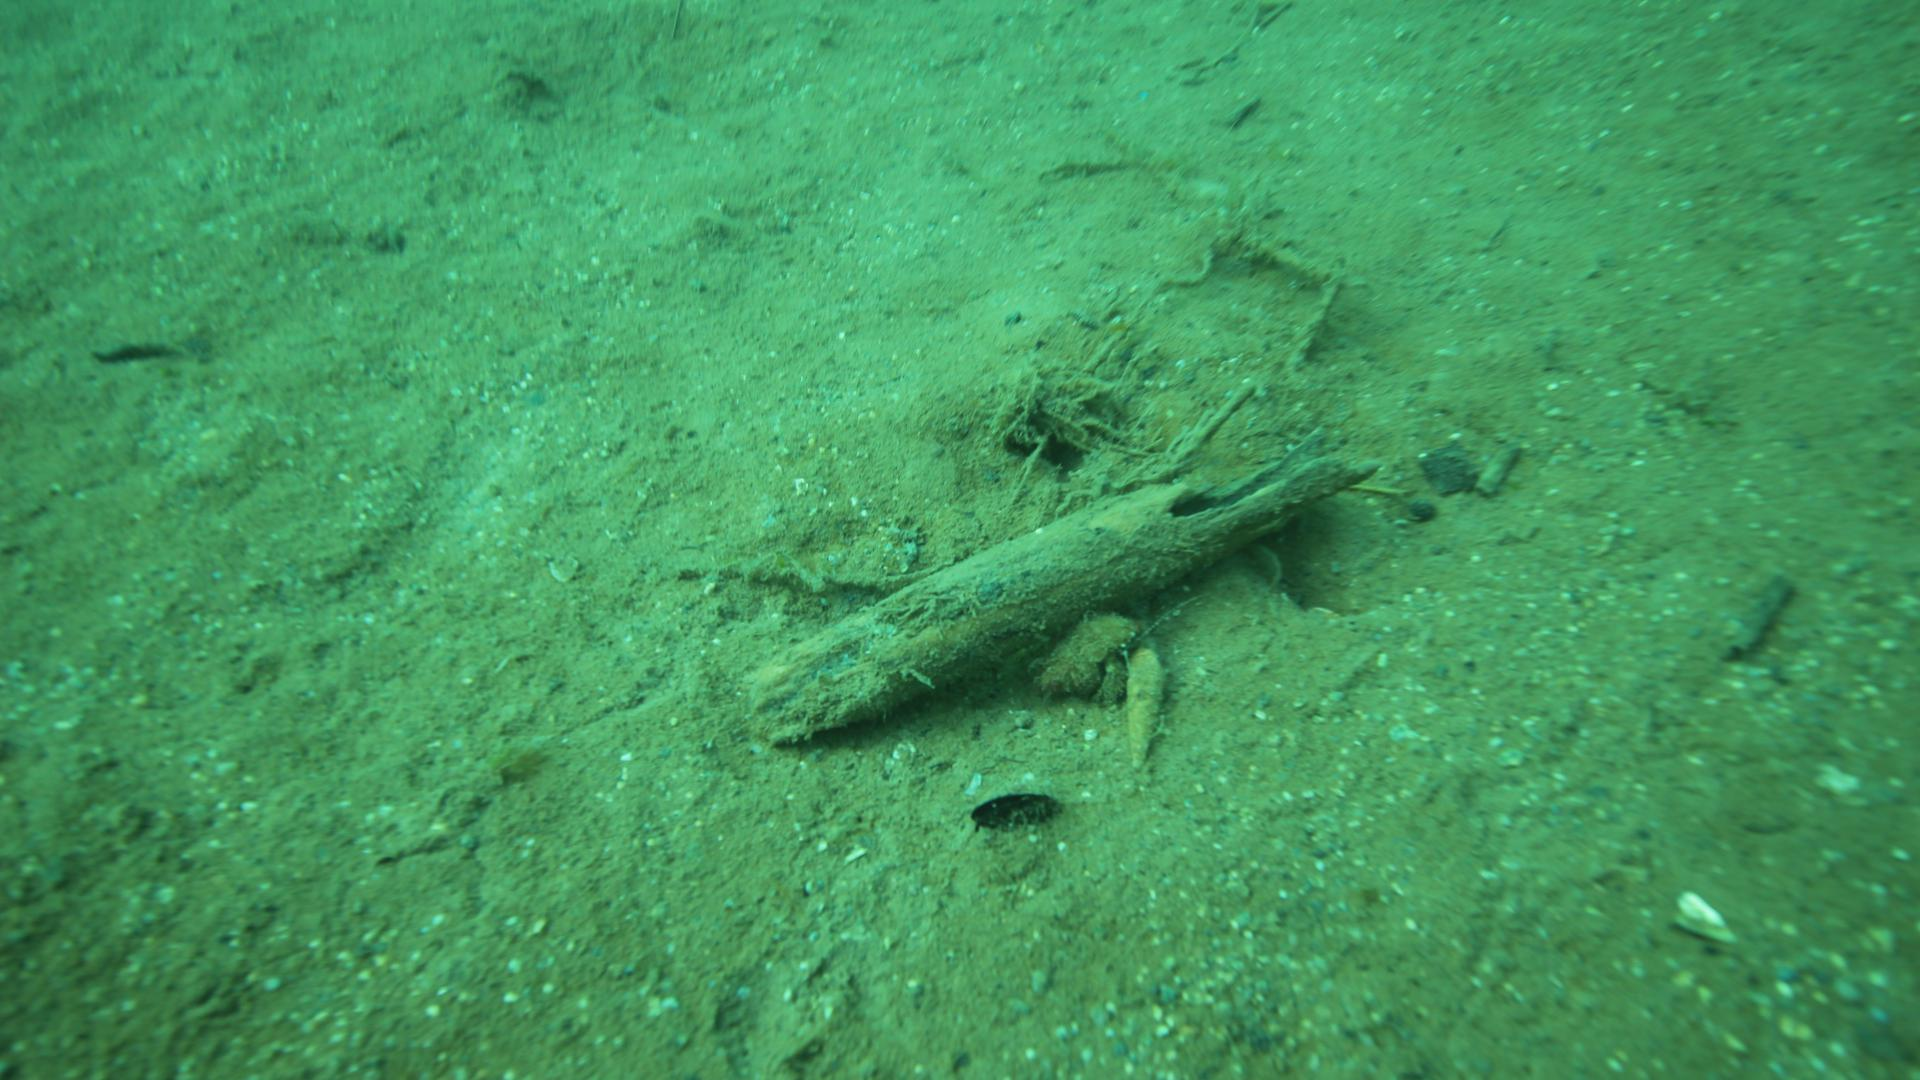wood: (742, 421, 1385, 738)
